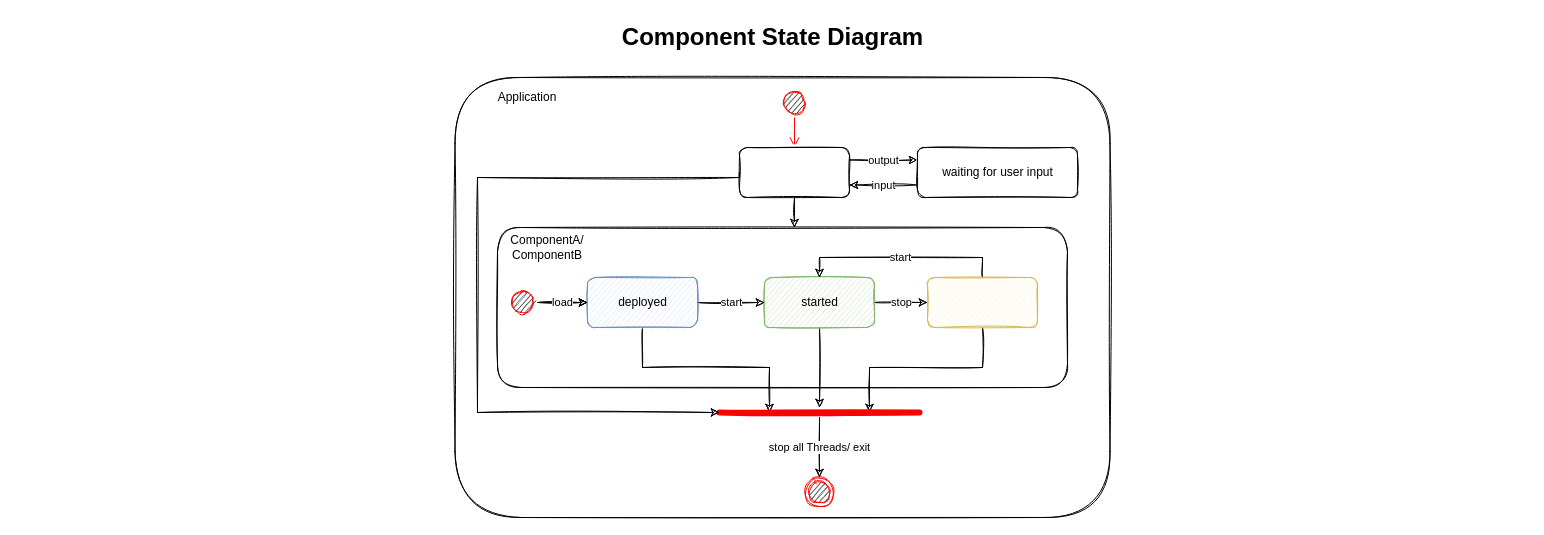
Image size: 1544x535. Some labels were removed from this diagram. Each missing label, with the centre of its shape:
"processing" goes at [794,172].
"stopped" goes at [982,302].
